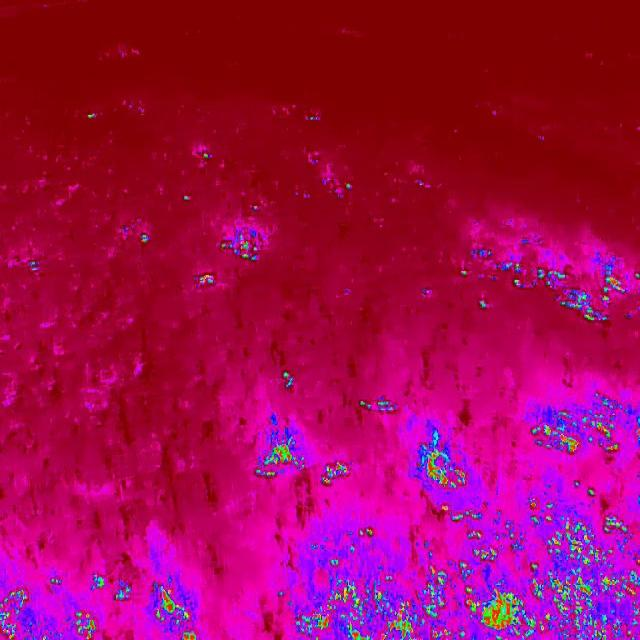fire: (279, 505, 640, 640), (457, 240, 640, 330), (0, 570, 200, 640), (521, 386, 640, 470), (253, 430, 353, 496), (188, 222, 269, 290), (413, 423, 467, 498)
